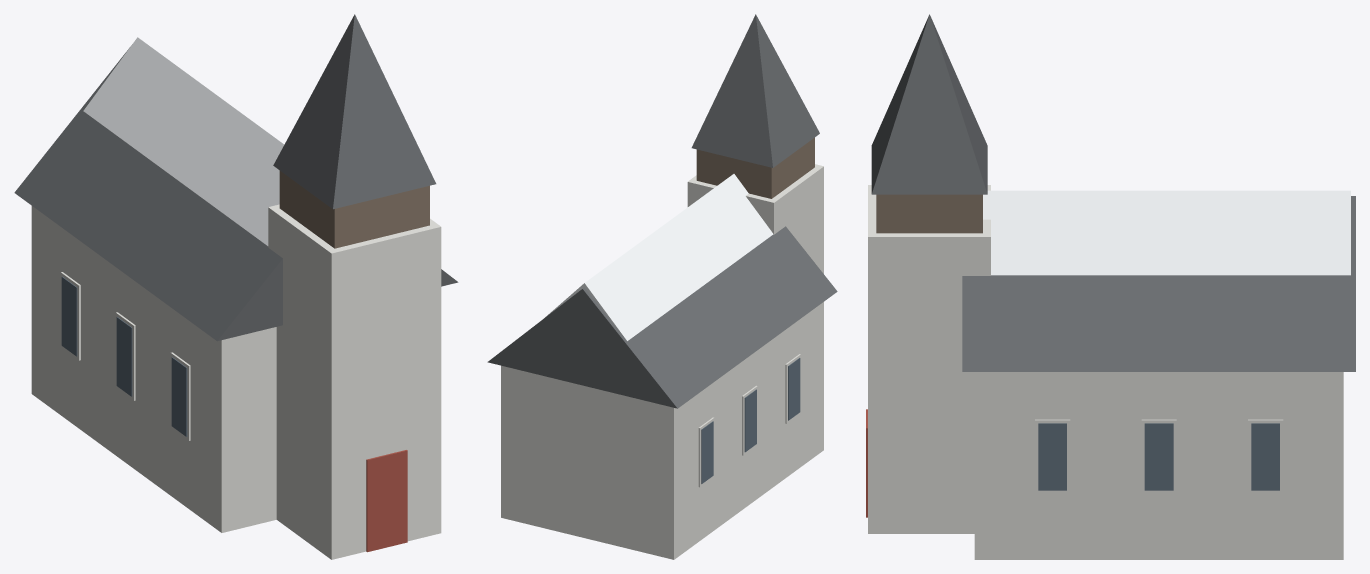
File: FjordChapel.glb
The picture shows the model from 3 angles, left to right: view 1: azimuth 30°, elevation 25°; view 2: azimuth 150°, elevation 25°; view 3: azimuth 270°, elevation 25°; orthographic projection. The views are drawn at different scales.
Visible parts, largest first — view 1: Tower, Nave, Nave roof, Nave roof snow, Spire, Belfry, Door.002, Window.024, Window.026, Window.028, Window frame.024, Window frame.026; view 2: Nave, Nave roof, Nave roof snow, Spire, Tower, Belfry, Window.026, Window.024, Window.028, Window frame.028; view 3: Nave, Nave roof, Tower, Nave roof snow, Spire, Belfry, Window.027, Window.025, Window.029, Window frame.025, Window frame.027, Window frame.029.
Part boxes in pixels (left/top/right/bottom): Tower: left=268, top=204, right=441, bottom=559; Nave: left=31, top=206, right=276, bottom=532; Nave roof: left=14, top=47, right=458, bottom=341; Nave roof snow: left=83, top=37, right=284, bottom=245; Spire: left=273, top=14, right=436, bottom=209; Belfry: left=279, top=170, right=429, bottom=248; Door.002: left=366, top=450, right=407, bottom=552; Window.024: left=171, top=357, right=187, bottom=436; Window.026: left=116, top=317, right=132, bottom=396; Window.028: left=61, top=276, right=77, bottom=356; Window frame.024: left=170, top=352, right=190, bottom=440; Window frame.026: left=115, top=312, right=135, bottom=400; Nave: left=501, top=302, right=823, bottom=559; Nave roof: left=487, top=226, right=837, bottom=408; Nave roof snow: left=545, top=174, right=773, bottom=340; Spire: left=691, top=14, right=819, bottom=167; Tower: left=687, top=164, right=823, bottom=273; Belfry: left=696, top=137, right=814, bottom=198; Window.026: left=744, top=389, right=756, bottom=452; Window.024: left=788, top=358, right=800, bottom=420; Window.028: left=701, top=421, right=713, bottom=483; Window frame.028: left=698, top=417, right=714, bottom=487; Nave: left=974, top=372, right=1343, bottom=559; Nave roof: left=962, top=196, right=1355, bottom=371; Tower: left=868, top=185, right=990, bottom=533; Nave roof snow: left=983, top=190, right=1350, bottom=275; Spire: left=871, top=14, right=987, bottom=194; Belfry: left=876, top=194, right=982, bottom=233; Window.027: left=1144, top=423, right=1173, bottom=490; Window.025: left=1038, top=423, right=1066, bottom=490; Window.029: left=1251, top=423, right=1279, bottom=490; Window frame.025: left=1035, top=419, right=1070, bottom=493; Window frame.027: left=1141, top=419, right=1176, bottom=493; Window frame.029: left=1248, top=419, right=1283, bottom=493.
Bounding box in the file's own units: 6.6 × 13.3 × 11.95.
